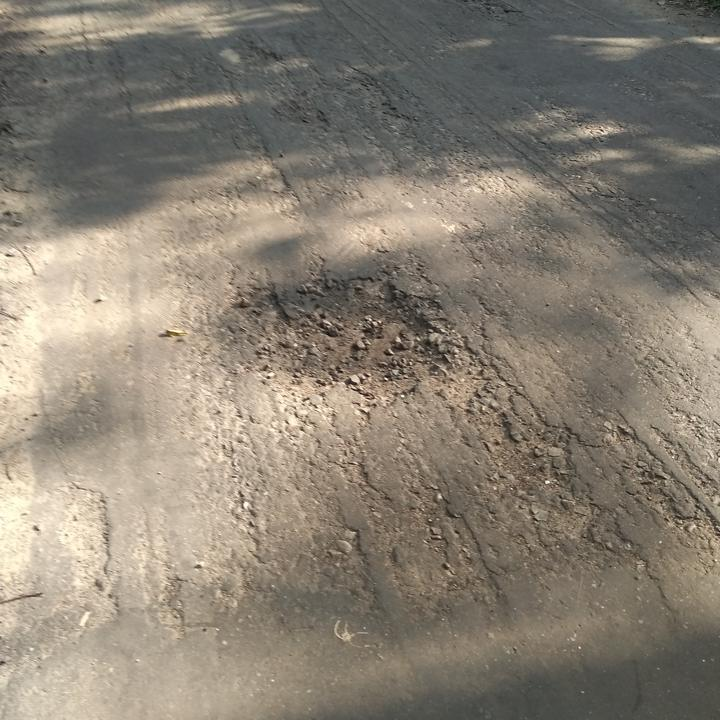pothole: (232, 272, 455, 404)
